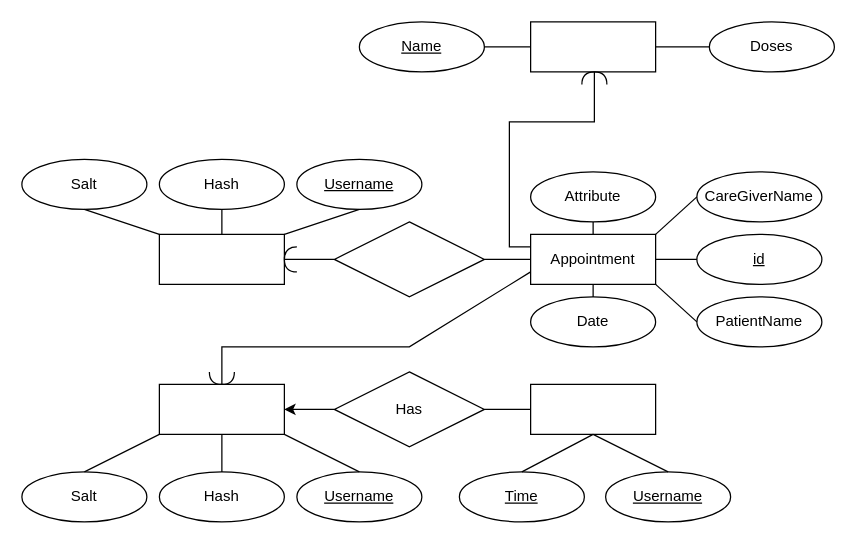
Image size: 856x544. Some labels were removed from this diagram. The centre of each missing label's shape, as x and y in pixels:
Availability: pixel 592 408
Caregiver: pixel 221 408
Makes: pixel 408 259
Patient: pixel 221 258
Vaccine: pixel 592 46
